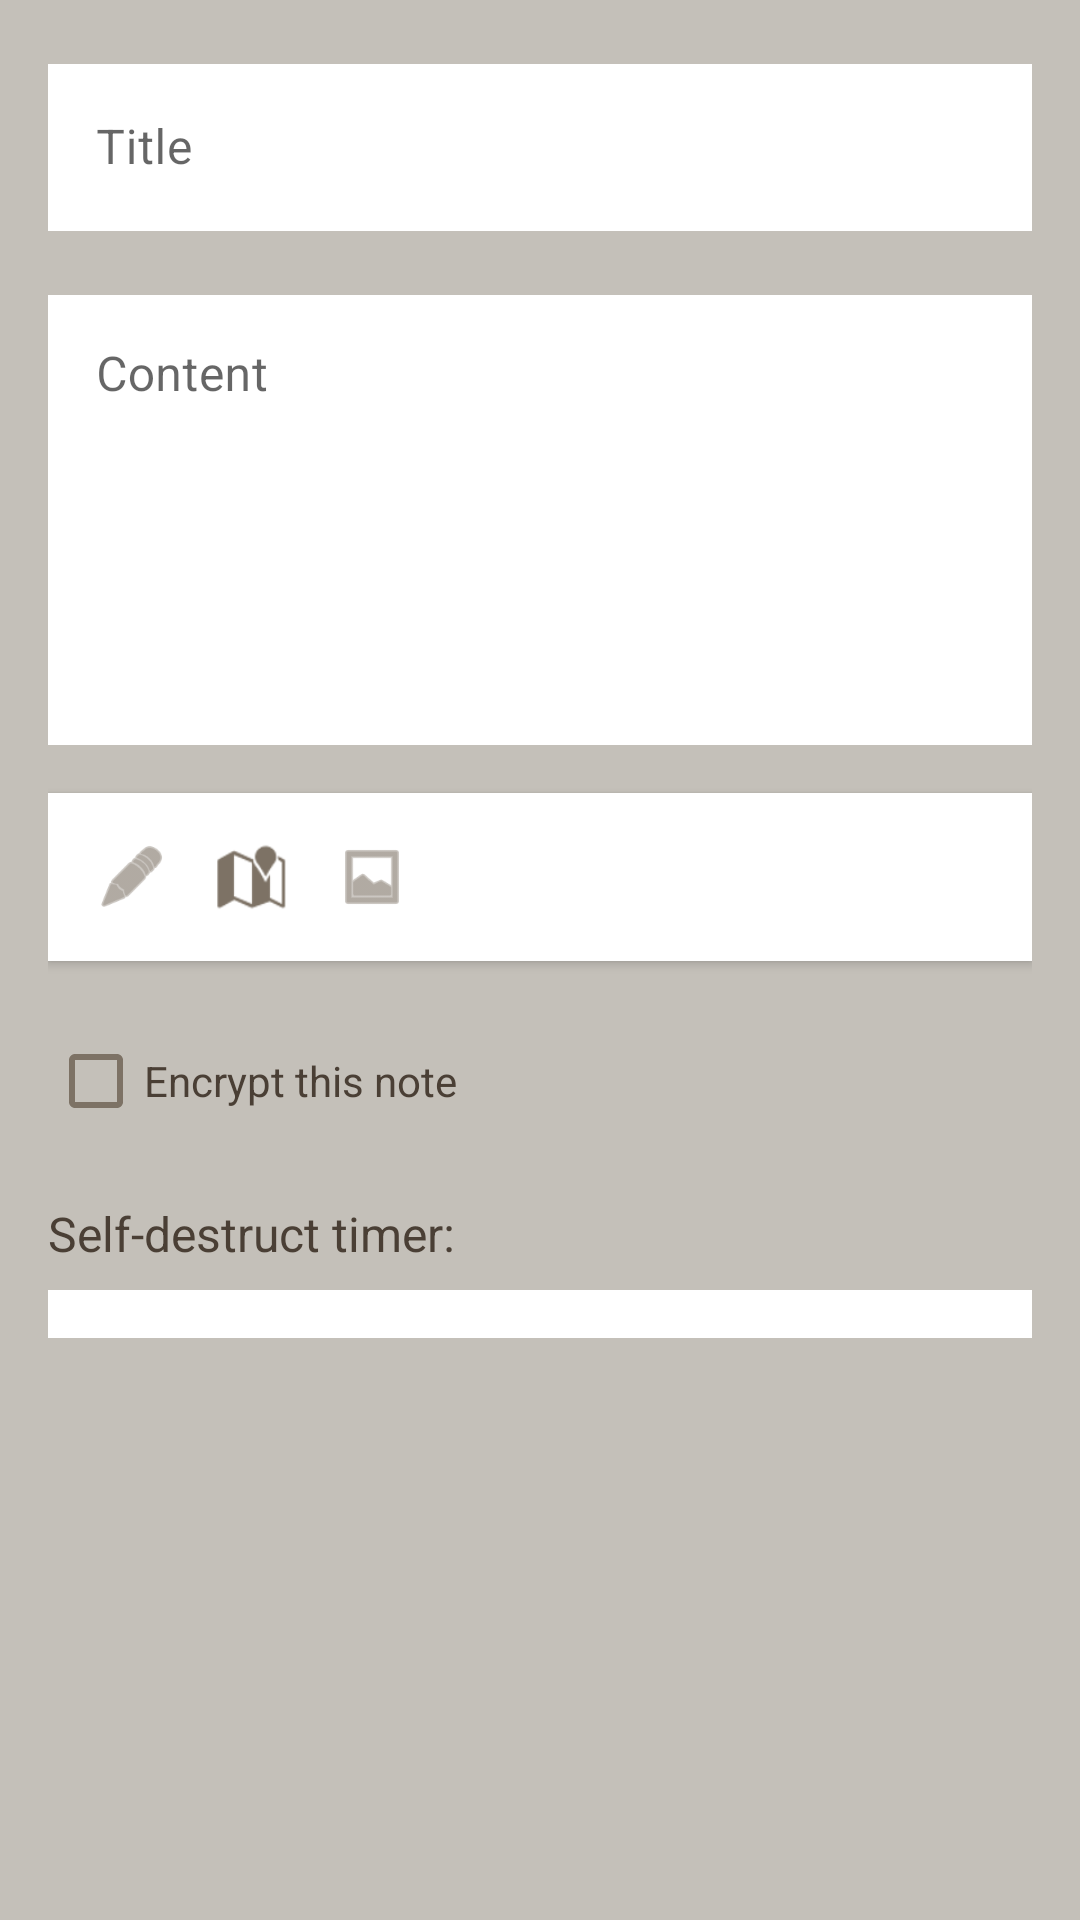

Icon bounding boxes for this 1080w x 1920h phone screenshot, format (x1, y1, x2, y2):
edit: (101, 846, 162, 907)
gallery: (345, 850, 399, 904)
map: (217, 845, 286, 909)
